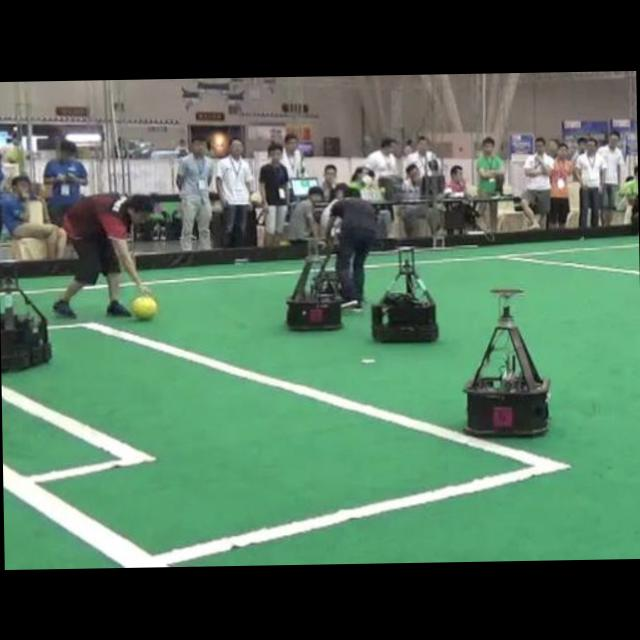ball: (130, 296, 157, 319)
robot: (464, 305, 548, 435), (371, 247, 438, 342), (286, 239, 341, 330), (0, 273, 49, 370)
